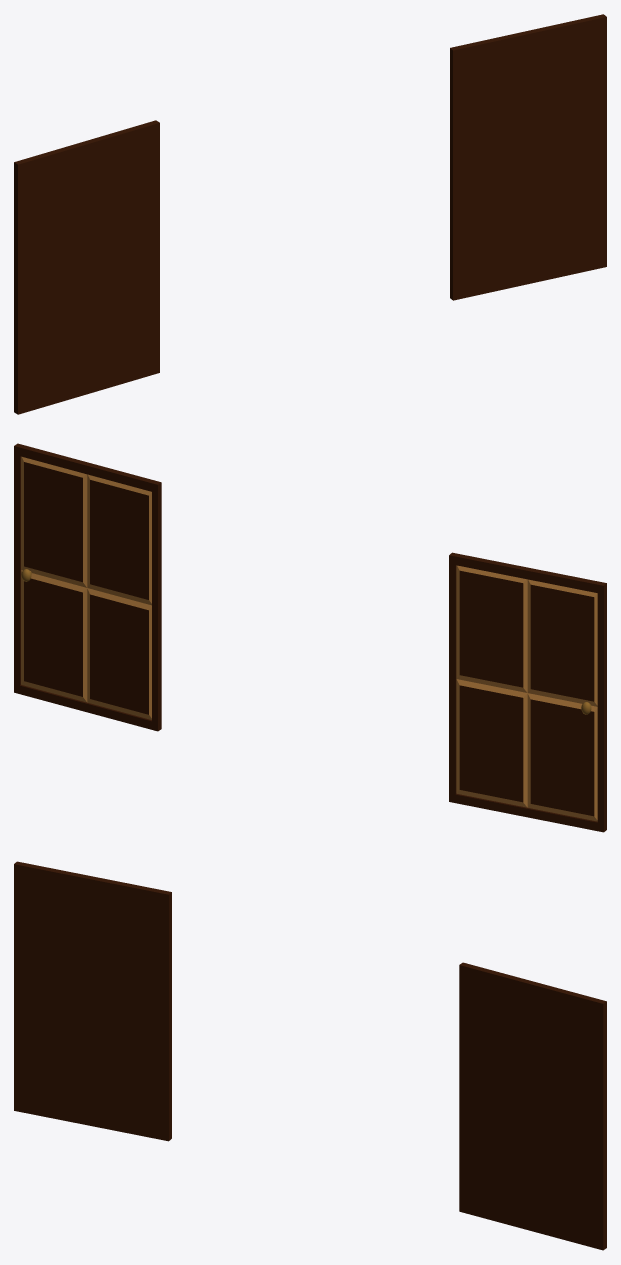
File: Shutters Open.fbx
3 renders of one model, top to bottom at view 1: azimuth 30°, elevation 25°; view 2: azimuth 150°, elevation 25°; view 3: azimuth 330°, elevation 25°, orthographic.
Visible parts, largest first — view 1: Plane.001; view 2: Plane.001; view 3: Plane.001.
Part boxes in pixels (x1,y1,x2,y2): Plane.001: (14,14,606,414); Plane.001: (14,443,606,832); Plane.001: (14,861,606,1250).
Bounding box in the file's own units: 2.16 × 0.8674 × 0.0822.
